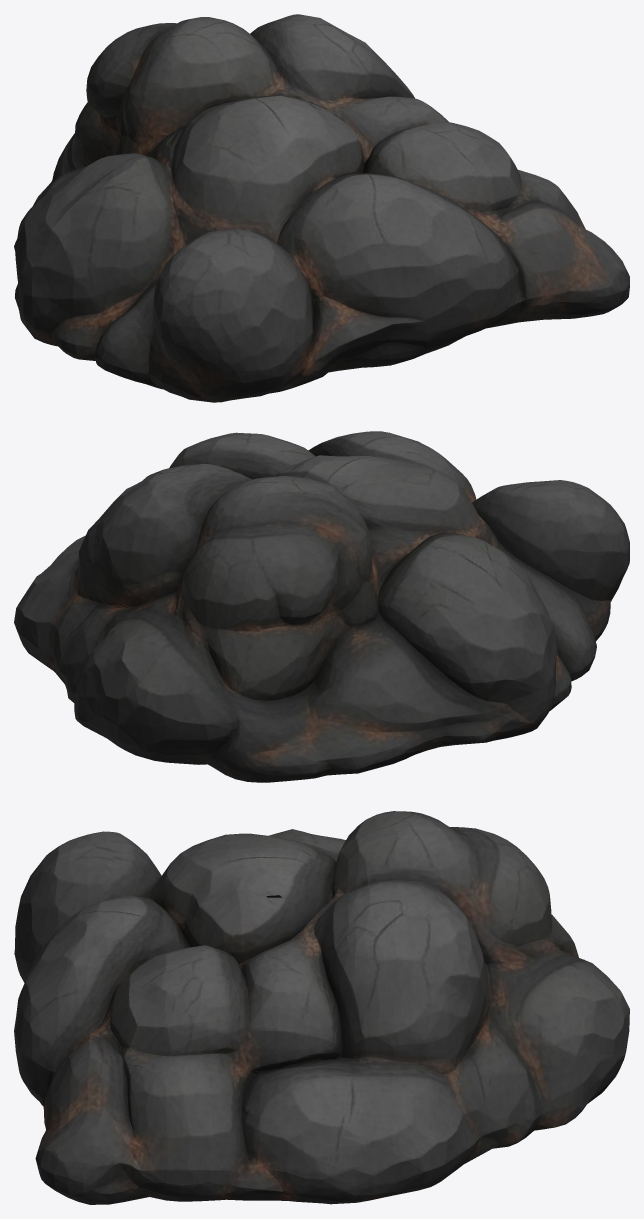
The picture shows the model from 3 angles, top to bottom: view 1: azimuth 30°, elevation 25°; view 2: azimuth 150°, elevation 25°; view 3: azimuth 270°, elevation 25°; orthographic projection. The views are drawn at different scales.
Parts seen in each view (by area): view 1: world; view 2: world; view 3: world.
Boxes of the visible parts, x1,y1,x2,y2 form: world: (14, 14, 629, 402); world: (14, 431, 629, 782); world: (14, 811, 629, 1204).
Size of the model in its own units: 0.9499 by 0.4251 by 0.95.
Materials: 1 (1 with a texture image).
